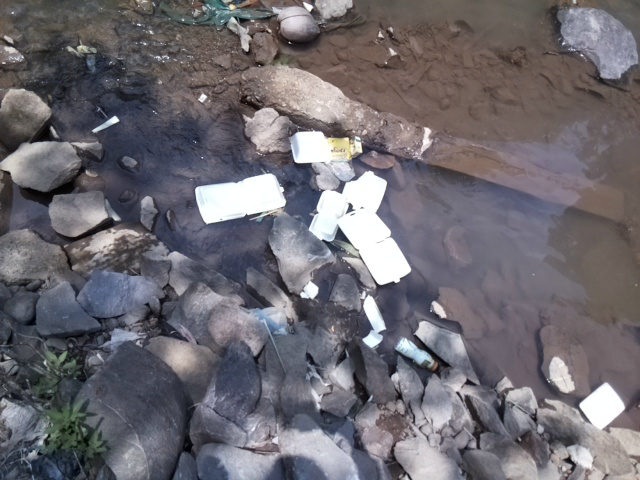Sampah_Botol_Plastik: (393, 334, 442, 373)
Sampah_Styrofoam: (309, 169, 413, 286), (191, 170, 290, 227), (577, 378, 629, 434), (288, 128, 336, 165), (361, 291, 388, 350)
